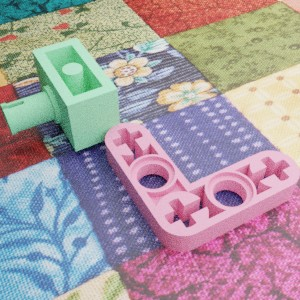lego: (104, 122, 300, 251), (0, 37, 120, 151)
